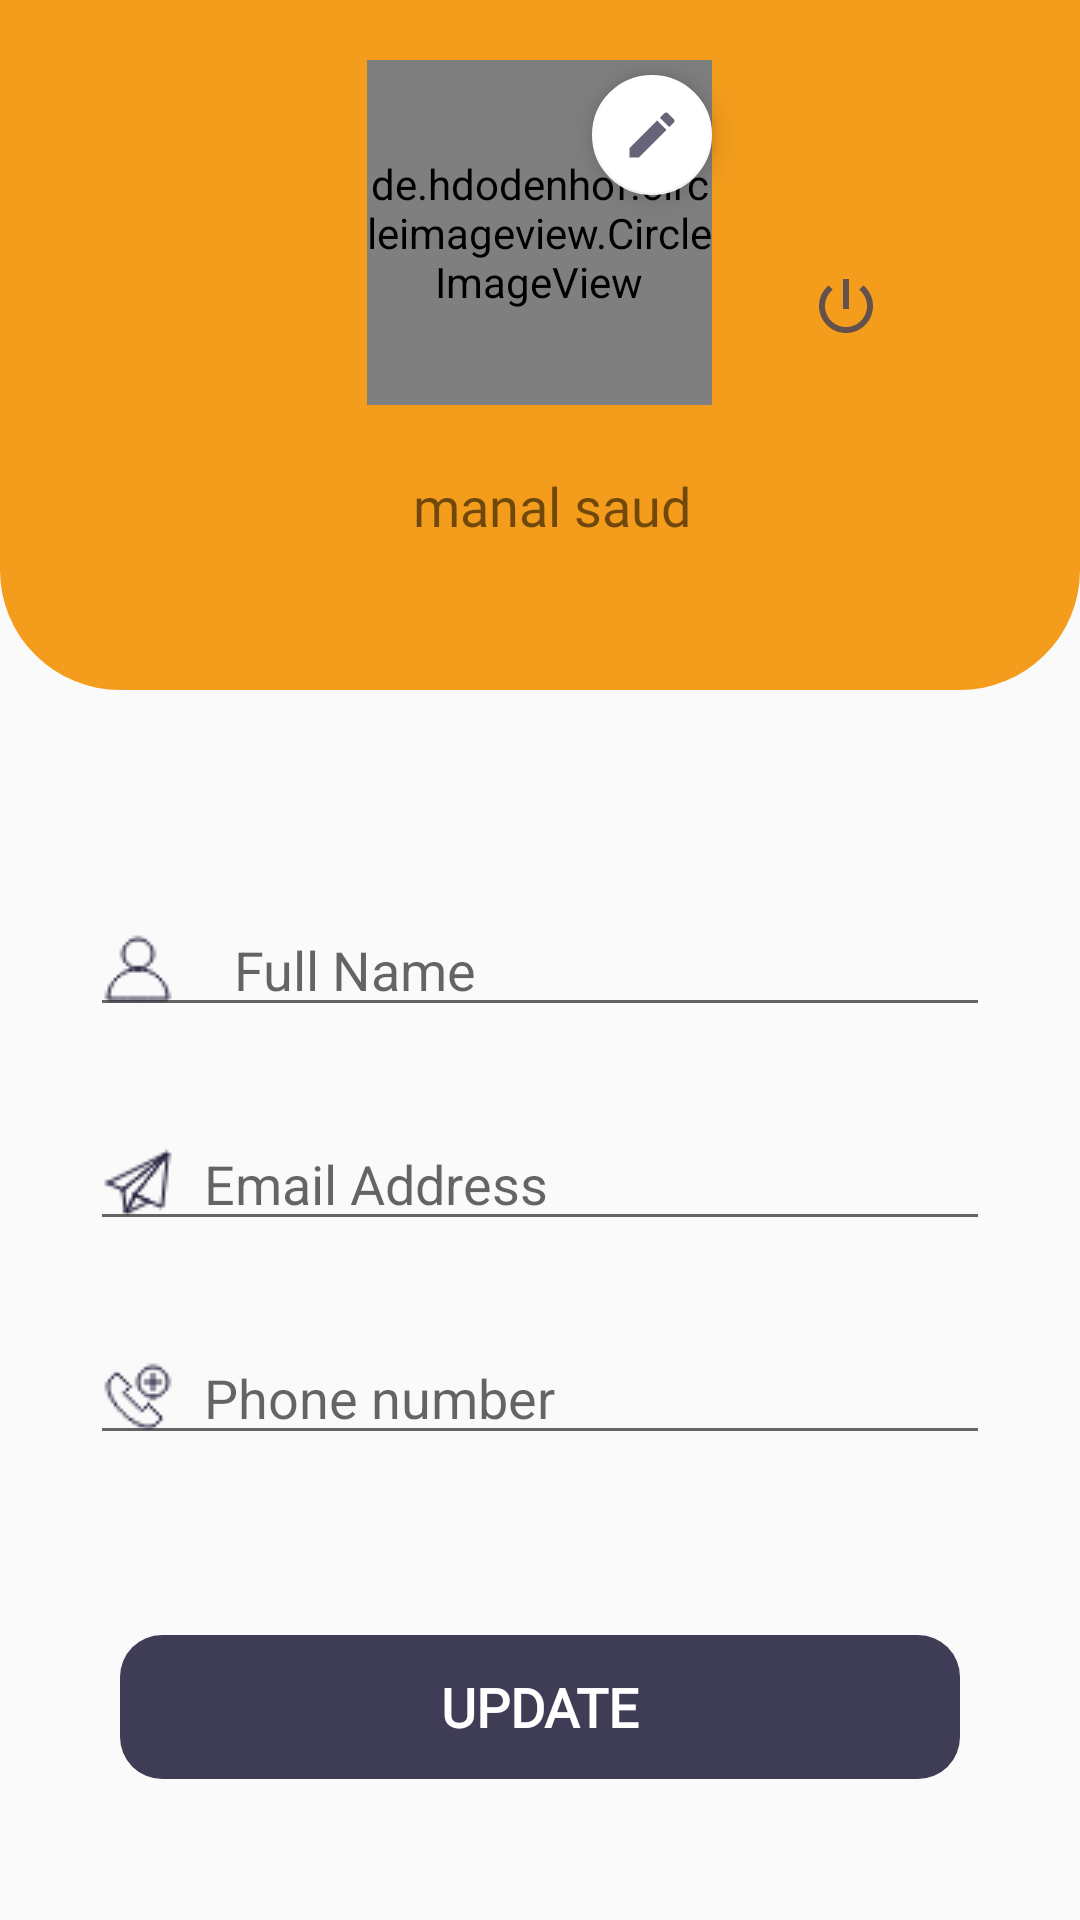

Icons on this 1080 × 1920 Android screen, each with the point to tap as point (x, y):
edit: point (652, 135)
poweroff: point (846, 306)
